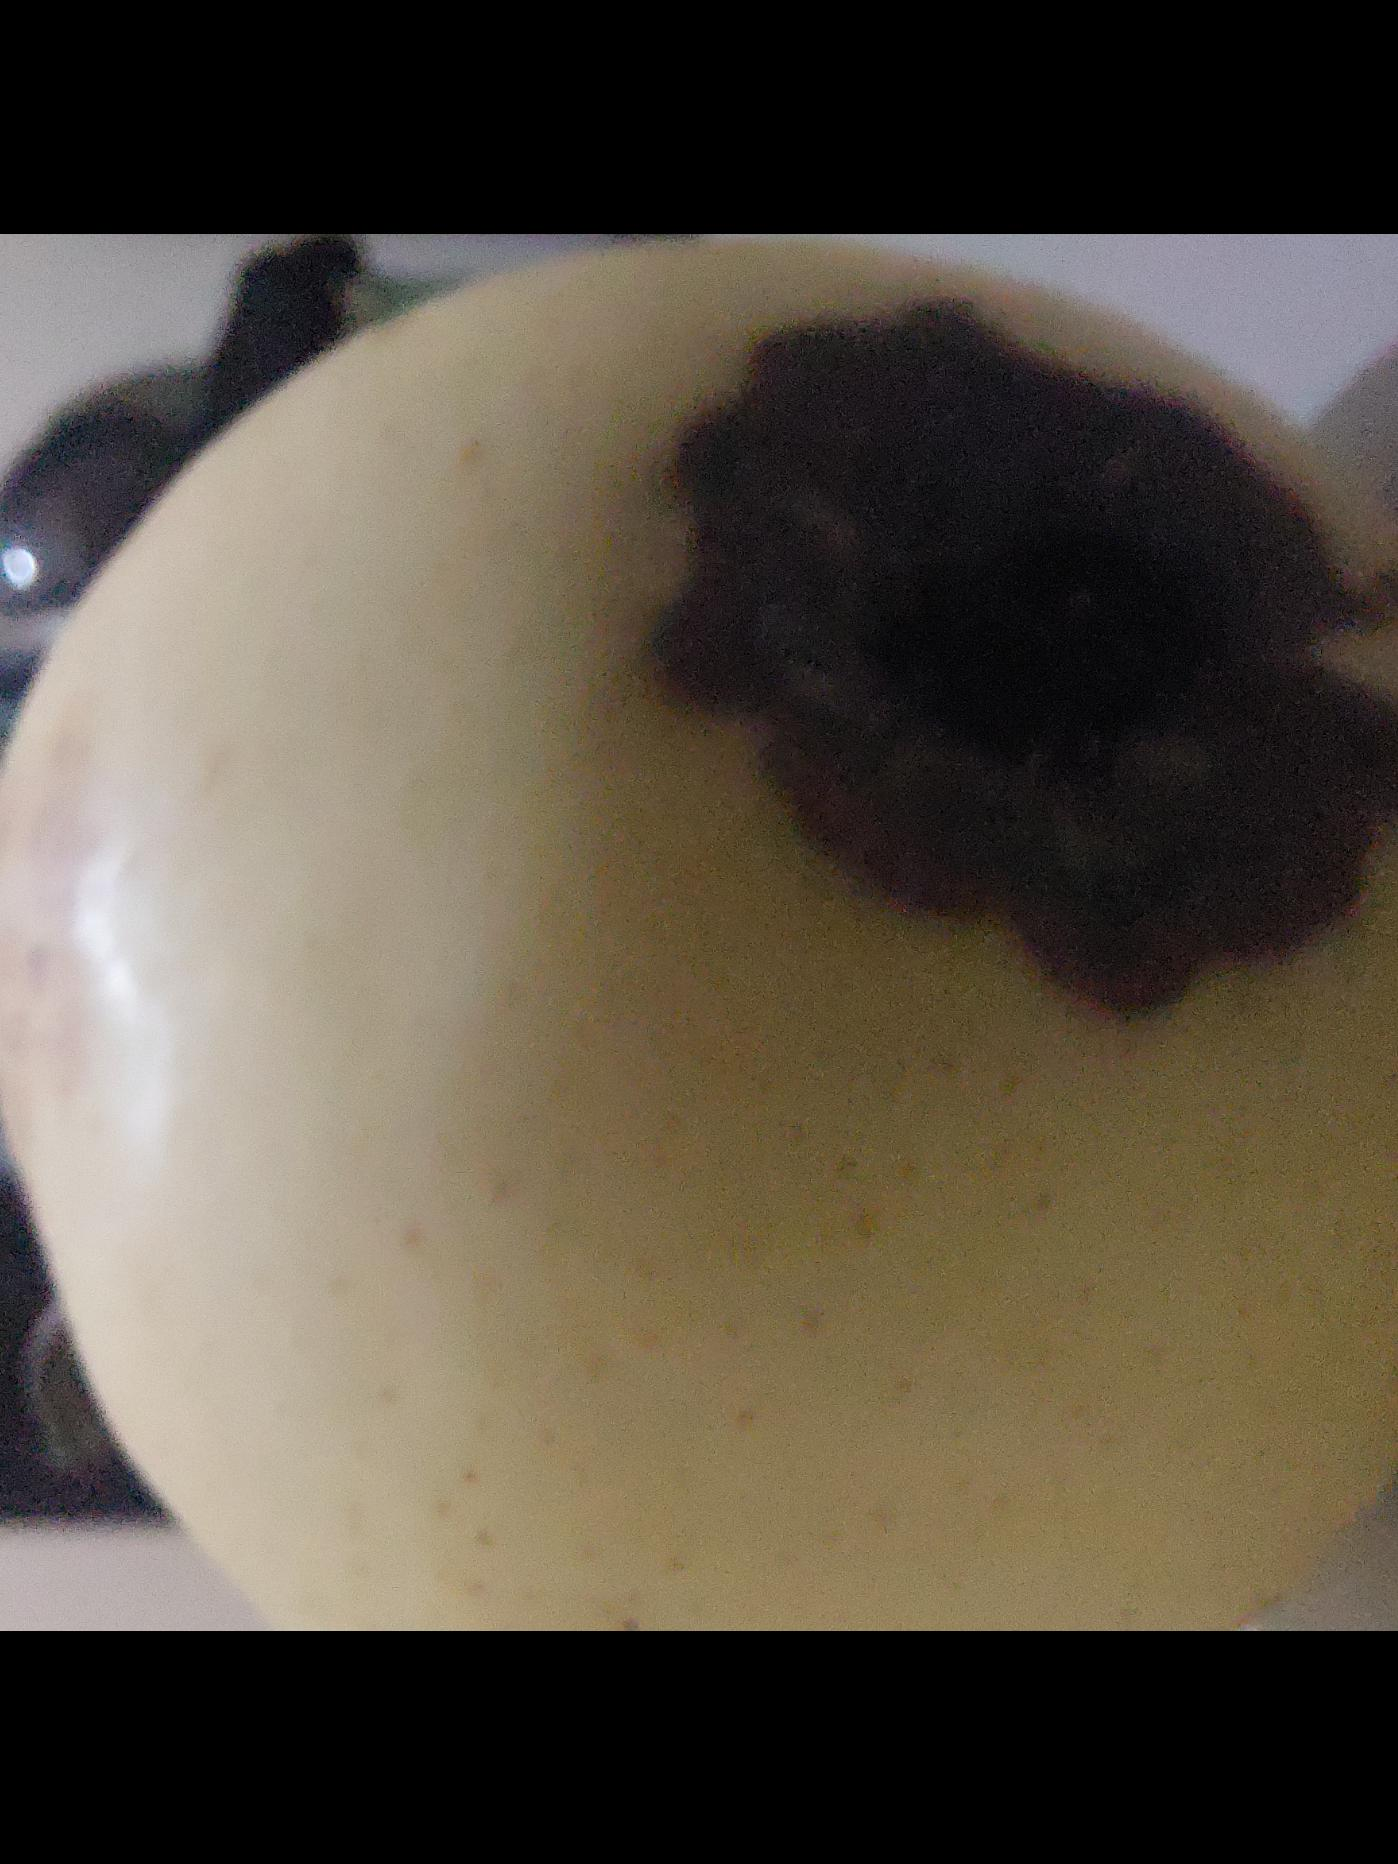Bad Pear: (297, 280, 1398, 1631)
